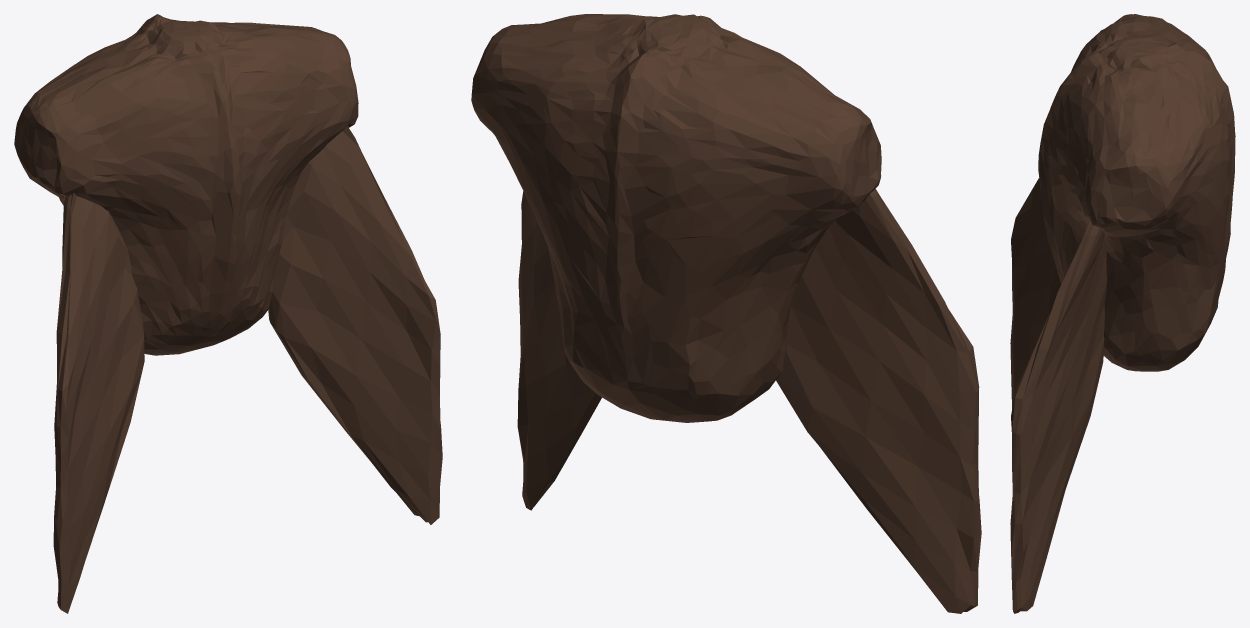
The model's file is Pterodactyl Torso.obj.
3 renders of one model, left to right at view 1: azimuth 30°, elevation 25°; view 2: azimuth 150°, elevation 25°; view 3: azimuth 270°, elevation 25°, orthographic. The views are drawn at different scales.
Parts seen in each view (by area): view 1: torso, wings; view 2: torso, wings; view 3: torso, wings.
Boxes of the visible parts, box(x1,y1,x2,y2) form: torso: box(14, 14, 358, 355); wings: box(53, 126, 442, 613); torso: box(471, 14, 881, 422); wings: box(517, 189, 981, 613); torso: box(1038, 14, 1235, 371); wings: box(1010, 178, 1107, 613).
Size of the model in its own units: 0.9788 by 1.2 by 0.5083.
